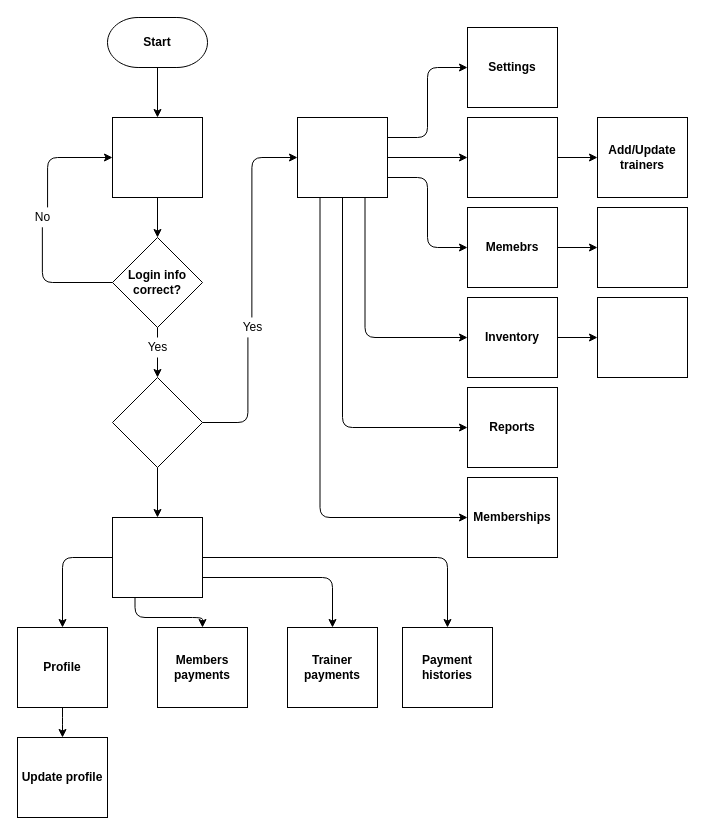
Image size: 705x835. Some labels were removed from this diagram. The shapes that lost their labels are listed below. From the top down, each one's box as (x1, y1, x2, y2) in pixels, then its label:
(112, 116, 202, 198): Login Page: User enters usernam/pwd
(296, 116, 388, 198): Admin dashboard
(466, 116, 558, 198): Trasiners
(596, 206, 688, 288): Add/Update members
(596, 296, 688, 378): Add/Update nventory
(112, 376, 202, 468): Admin?
(112, 516, 202, 598): Accountant dashboard
